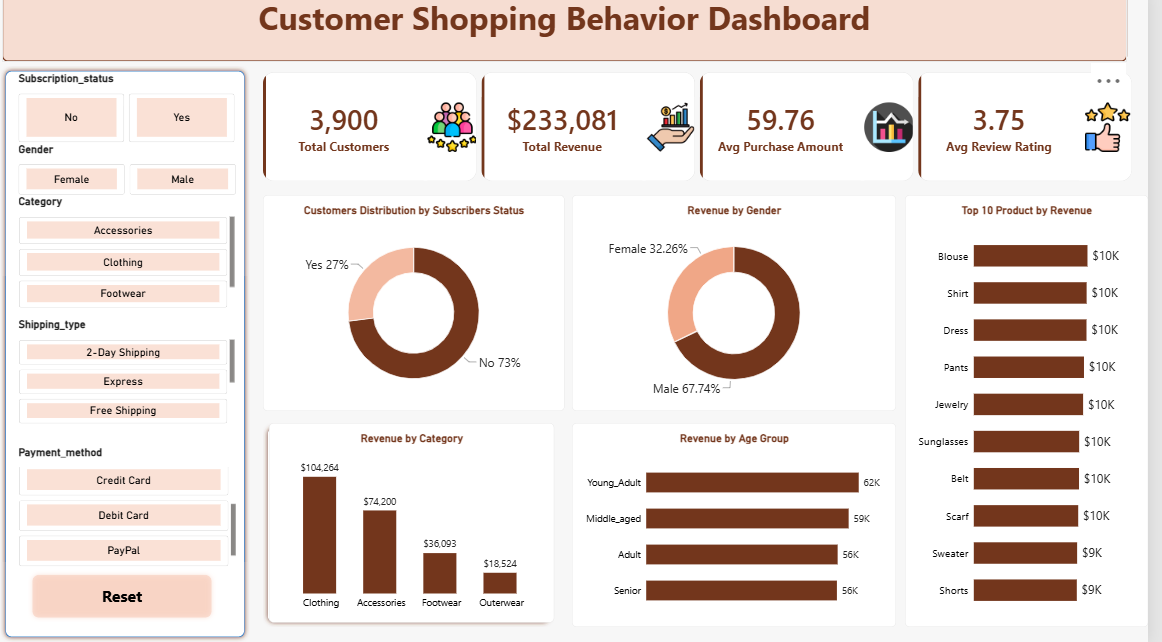

What the dashboard file says about the page in this screenshot:
{"tool":"powerbi","page":{"name":"Customer_Shopping_Behavior_Dashboard","canvas":[1920,1080],"ordinal":0},"visuals":[{"type":"shape","box":[1515,335,405,720],"z":0},{"type":"shape","box":[445,715,485,340],"z":1000},{"type":"cardVisual","fields":{"Data":["customer_behavior customer.Total Customers","customer_behavior customer.Total Revenue","customer_behavior customer.Avg Purchase Amount","customer_behavior customer.Avg Review Rating"]},"box":[445,130,1450,182.5],"z":2000},{"type":"textbox","box":[10,0,1875,112.5],"z":3000},{"type":"donutChart","title":"Customers Distribution by Subscribers Status","fields":{"Category":["customer_behavior customer.subscription_status"],"Y":["customer_behavior customer.Total Customers"]},"box":[445,335,502.5,360],"z":4000},{"type":"clusteredColumnChart","title":"Revenue by Category","fields":{"Category":["customer_behavior customer.category"],"Y":["customer_behavior customer.Total Revenue"]},"box":[455,715,475,332.5],"z":5000},{"type":"clusteredBarChart","title":"Revenue by Age Group","fields":{"Category":["customer_behavior customer.age_group"],"Y":["Sum(customer_behavior customer.purchase_amount)"]},"box":[960,715,540,340],"z":6000},{"type":"donutChart","title":" Revenue by Gender","fields":{"Category":["customer_behavior customer.gender"],"Y":["customer_behavior customer.Total Revenue"]},"box":[960,335,540,360],"z":7000},{"type":"clusteredBarChart","title":"Top 10 Product by Revenue","fields":{"Category":["customer_behavior customer.item_purchased"],"Y":["customer_behavior customer.Total Revenue"]},"box":[1515,335,405,720],"z":8000},{"type":"shape","box":[7.5,120,415,960],"z":9000},{"type":"advancedSlicerVisual","title":"Category","fields":{"Values":["customer_behavior customer.category"]},"box":[37.5,335,360,187.5],"z":12000},{"type":"advancedSlicerVisual","title":"Shipping_type","fields":{"Values":["customer_behavior customer.shipping_type"]},"box":[37.5,540,360,175],"z":13000},{"type":"advancedSlicerVisual","title":"Payment_method","fields":{"Values":["customer_behavior customer.payment_method"]},"box":[37.5,752.5,362.5,207.5],"z":14000},{"type":"advancedSlicerVisual","title":"Subscription_status","fields":{"Values":["customer_behavior customer.subscription_status"]},"box":[37.5,130,360,117.5],"z":14001},{"type":"advancedSlicerVisual","title":"Gender","fields":{"Values":["customer_behavior customer.gender"]},"box":[37.5,247.5,362.5,87.5],"z":14002},{"type":"actionButton","box":[52.5,960,315,87.5],"z":14003}]}

Visuals, with their boxes in screenshot pixels (x1, y1, x2, y2), scaled from the page's 1920x1080 canvas onto the 1162x642 screenshot:
shape: [left=917, top=199, right=1161, bottom=627]
shape: [left=269, top=425, right=563, bottom=627]
cardVisual - customer_behavior customer.Total Customers x customer_behavior customer.Total Revenue: [left=269, top=77, right=1147, bottom=186]
textbox: [left=6, top=0, right=1141, bottom=67]
"Customers Distribution by Subscribers Status" donutChart: [left=269, top=199, right=573, bottom=413]
"Revenue by Category" clusteredColumnChart: [left=275, top=425, right=563, bottom=623]
"Revenue by Age Group" clusteredBarChart: [left=581, top=425, right=908, bottom=627]
" Revenue by Gender" donutChart: [left=581, top=199, right=908, bottom=413]
"Top 10 Product by Revenue" clusteredBarChart: [left=917, top=199, right=1161, bottom=627]
shape: [left=5, top=71, right=256, bottom=641]
"Category" advancedSlicerVisual: [left=23, top=199, right=241, bottom=311]
"Shipping_type" advancedSlicerVisual: [left=23, top=321, right=241, bottom=425]
"Payment_method" advancedSlicerVisual: [left=23, top=447, right=242, bottom=571]
"Subscription_status" advancedSlicerVisual: [left=23, top=77, right=241, bottom=147]
"Gender" advancedSlicerVisual: [left=23, top=147, right=242, bottom=199]
actionButton: [left=32, top=571, right=222, bottom=623]
